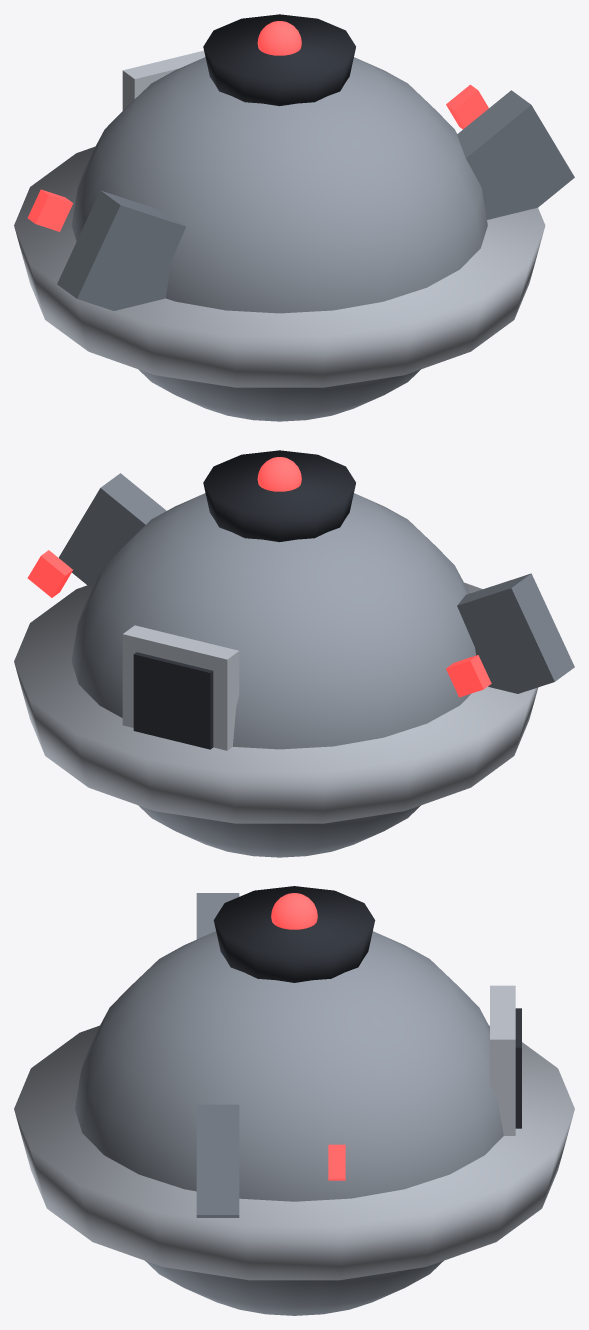
Rendered from b_bunker.glb.
3 renders of one model, top to bottom at view 1: azimuth 30°, elevation 25°; view 2: azimuth 150°, elevation 25°; view 3: azimuth 270°, elevation 25°, orthographic. The views are drawn at different scales.
Visible parts, largest first — view 1: bu_dome.001, bu_base.001, bu_slab-1.001, bu_hatch.001, bu_slab1.001, bu_doorf.001, bu_light.001, bu_lamp-1.001, bu_lamp1.001; view 2: bu_dome.001, bu_base.001, bu_hatch.001, bu_slab-1.001, bu_door.001, bu_doorf.001, bu_slab1.001, bu_light.001, bu_lamp1.001, bu_lamp-1.001; view 3: bu_dome.001, bu_base.001, bu_hatch.001, bu_slab1.001, bu_doorf.001, bu_light.001, bu_slab-1.001, bu_door.001, bu_lamp1.001.
Boxes of the visible parts, x1,y1,x2,y2 form: bu_dome.001: [71, 57, 487, 421]; bu_base.001: [14, 146, 545, 387]; bu_slab-1.001: [57, 190, 185, 310]; bu_hatch.001: [203, 14, 355, 106]; bu_slab1.001: [457, 90, 574, 219]; bu_doorf.001: [122, 50, 205, 110]; bu_light.001: [257, 21, 301, 55]; bu_lamp-1.001: [27, 189, 73, 231]; bu_lamp1.001: [446, 84, 488, 129]; bu_dome.001: [71, 493, 475, 857]; bu_base.001: [14, 582, 538, 823]; bu_hatch.001: [203, 450, 355, 542]; bu_slab-1.001: [457, 573, 574, 693]; bu_door.001: [133, 652, 213, 749]; bu_doorf.001: [122, 625, 239, 750]; bu_slab1.001: [58, 473, 166, 588]; bu_light.001: [257, 457, 301, 491]; bu_lamp1.001: [27, 550, 72, 597]; bu_lamp-1.001: [446, 655, 491, 697]; bu_dome.001: [75, 931, 503, 1315]; bu_base.001: [14, 1025, 574, 1280]; bu_hatch.001: [213, 886, 375, 982]; bu_slab1.001: [196, 1104, 239, 1217]; bu_doorf.001: [490, 985, 515, 1135]; bu_light.001: [271, 893, 317, 929]; bu_slab-1.001: [196, 893, 239, 939]; bu_door.001: [515, 1008, 521, 1128]; bu_lamp1.001: [328, 1144, 345, 1180].
Bounding box in the file's own units: 1.43 × 1.03 × 1.32.
